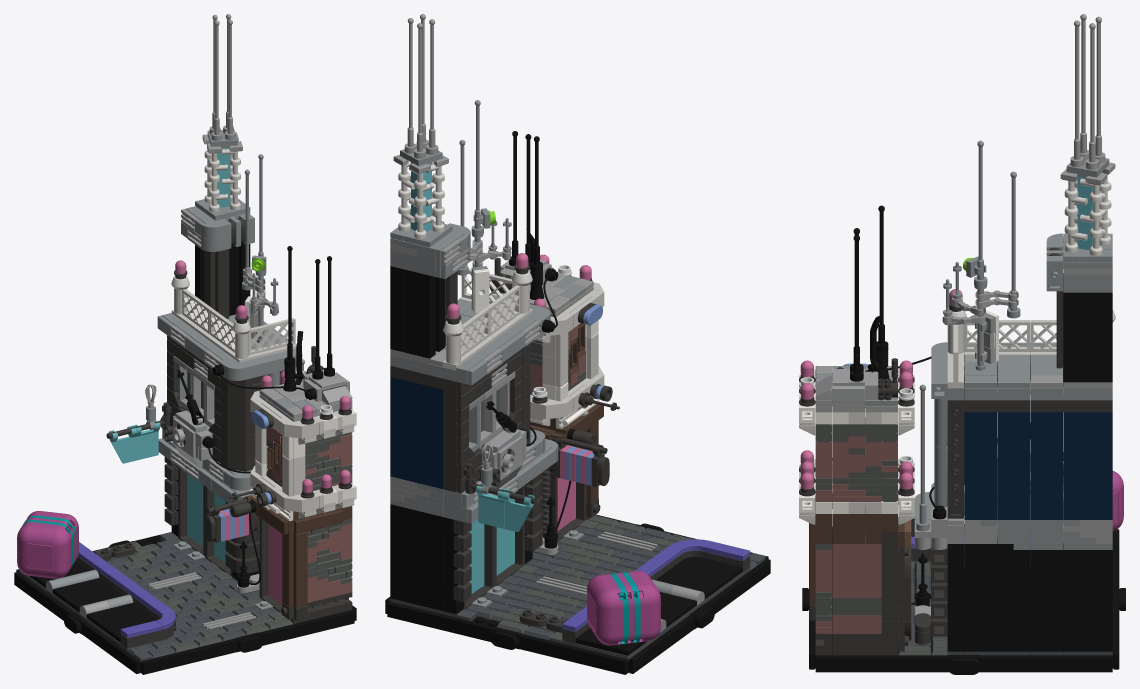
Rendered from Cyber streets.fbx.
The picture shows the model from 3 angles, left to right: view 1: azimuth 30°, elevation 25°; view 2: azimuth 150°, elevation 25°; view 3: azimuth 270°, elevation 25°; orthographic projection. The views are drawn at different scales.
Visible parts, largest first — view 1: part.670, part.669, part.063, part.1068, part.488, part.932, part.1061, part.1063, part.792, part.820, part.486, part.817 (+23 smaller); view 2: part.931, part.666, part.665, part.063, part.487, part.667, part.933, part.934, part.486, part.668, part.017, part.791 (+29 smaller); view 3: part.934, part.930, part.927, part.928, part.929, part.663, part.664, part.558, part.932, part.198, part.199, part.200 (+47 smaller).
Part boxes in pixels (x1,y1,x2,y2): part.670: [141, 638, 237, 674]; part.669: [259, 609, 354, 645]; part.063: [86, 603, 156, 637]; part.1068: [52, 578, 123, 612]; part.488: [248, 318, 296, 359]; part.932: [229, 243, 250, 315]; part.1061: [268, 524, 282, 604]; part.1063: [187, 474, 203, 546]; part.792: [178, 467, 205, 556]; part.820: [294, 531, 307, 607]; part.486: [178, 289, 215, 337]; part.817: [215, 249, 229, 320]; part.931: [416, 272, 444, 358]; part.666: [519, 634, 627, 674]; part.665: [387, 601, 494, 641]; part.063: [655, 560, 734, 599]; part.487: [483, 285, 524, 339]; part.667: [628, 615, 694, 673]; part.933: [403, 269, 416, 355]; part.934: [390, 266, 403, 352]; part.486: [461, 307, 494, 361]; part.668: [705, 559, 770, 613]; part.017: [591, 581, 622, 622]; part.791: [547, 431, 585, 542]; part.934: [1079, 292, 1112, 382]; part.930: [1063, 430, 1096, 519]; part.927: [964, 430, 996, 519]; part.928: [997, 430, 1029, 519]; part.929: [1030, 430, 1062, 519]; part.663: [815, 655, 947, 672]; part.664: [980, 655, 1112, 672]; part.558: [947, 400, 963, 518]; part.932: [1063, 292, 1079, 382]; part.198: [1030, 615, 1096, 633]; part.199: [1030, 633, 1096, 651]; part.200: [964, 633, 1029, 651].
Bounding box in the file's own units: 15948 × 34238 × 15838.
